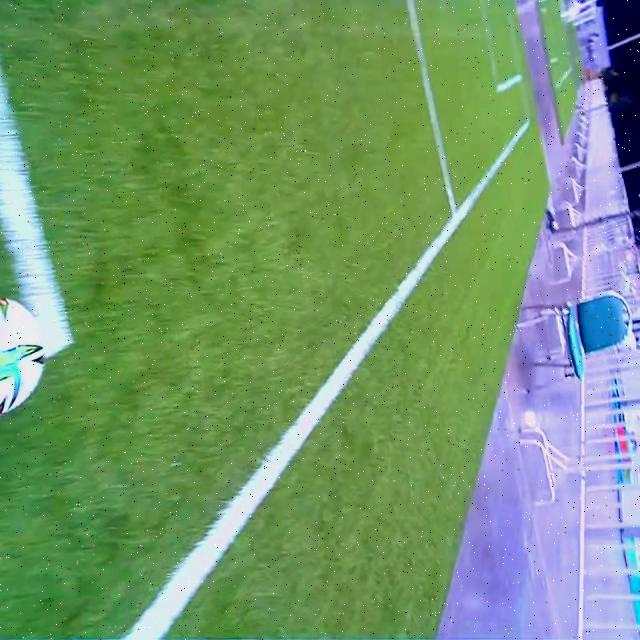ball: (0, 296, 42, 415)
